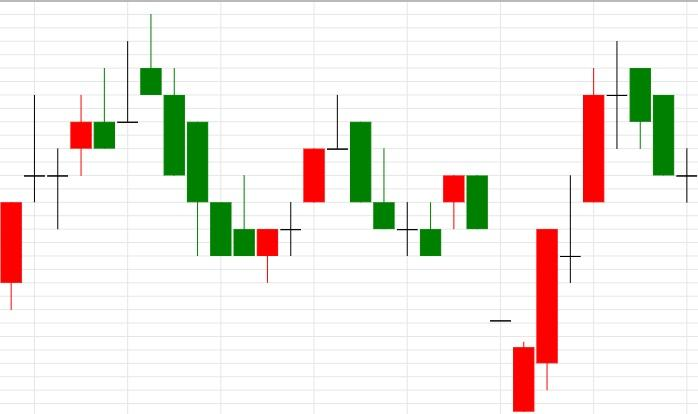evening_star_fall: (512, 40, 652, 413), (256, 95, 372, 283)
inverse_hammer_rise: (139, 13, 256, 257)
shooting_star_fall: (0, 14, 163, 309), (0, 68, 116, 309)
